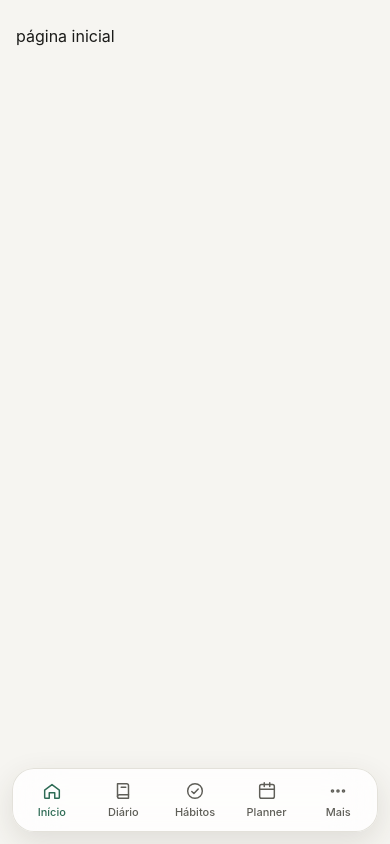
Test: AppLayout — navegação no celular › fecha a folha ao navegar e com Esc
Click the button "Mais". click: (338, 800)
box: left=302, top=768, right=374, bottom=832
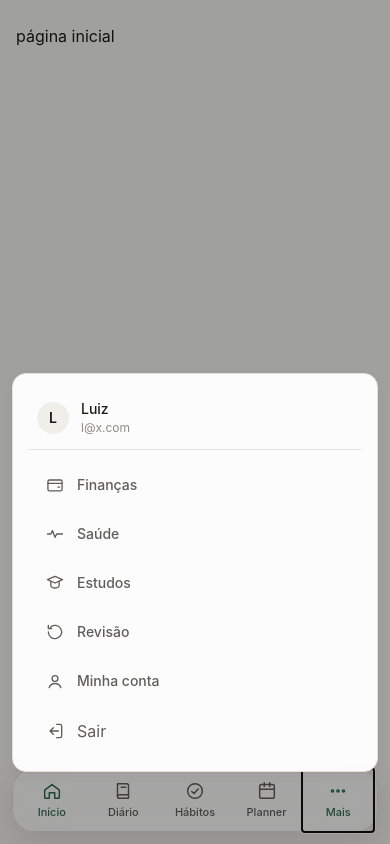
Click the link "Saúde". click: (82, 534)
box: left=45, top=524, right=119, bottom=544
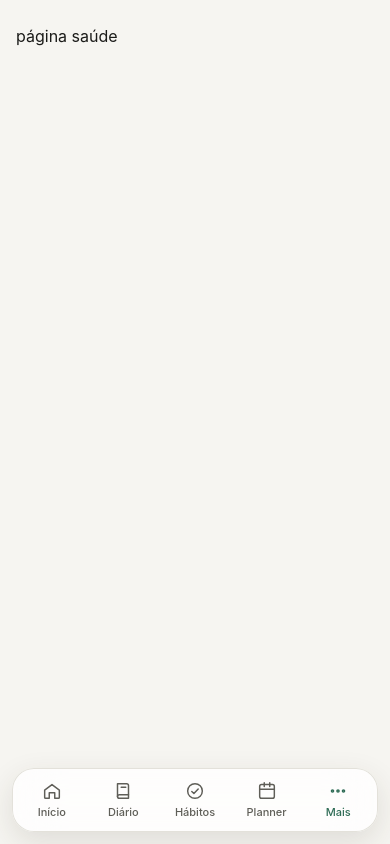
Check: the text "página saúde" is shown, box left=16, top=26, right=118, bottom=46
Check: the dialog is gone
Click the button "Mais". click: (338, 800)
box: left=302, top=768, right=374, bottom=832
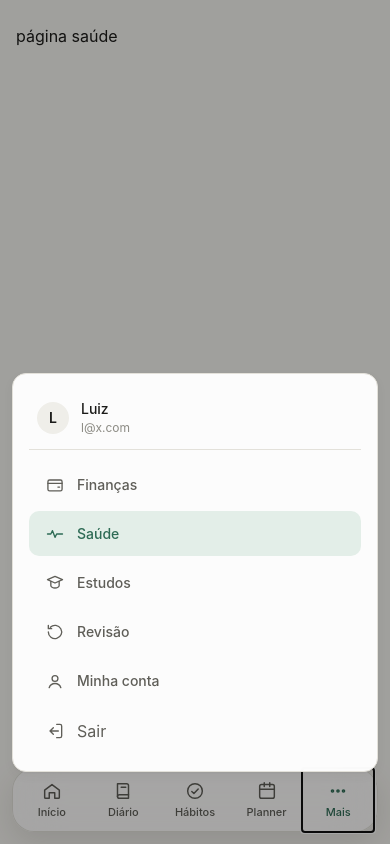
Press Escape
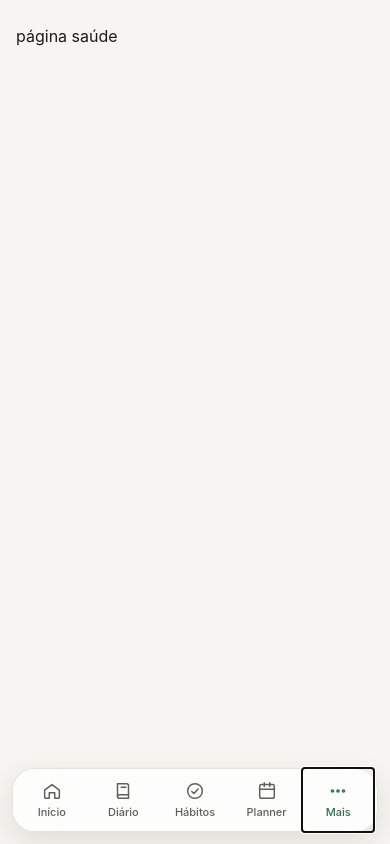
Check: the dialog is gone
